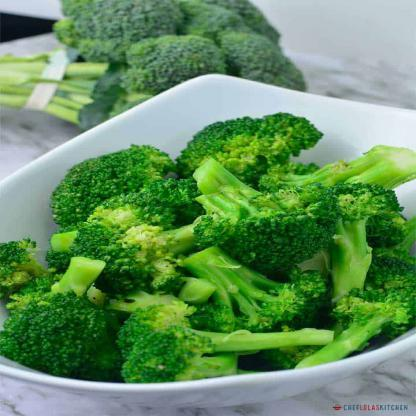broccoli: (0, 111, 415, 384)
